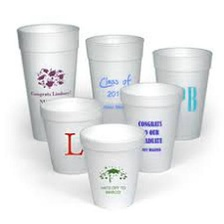paper_cup: (12, 19, 82, 145), (116, 78, 188, 176), (74, 119, 149, 213), (148, 41, 215, 145), (82, 28, 148, 126), (36, 93, 105, 177)
